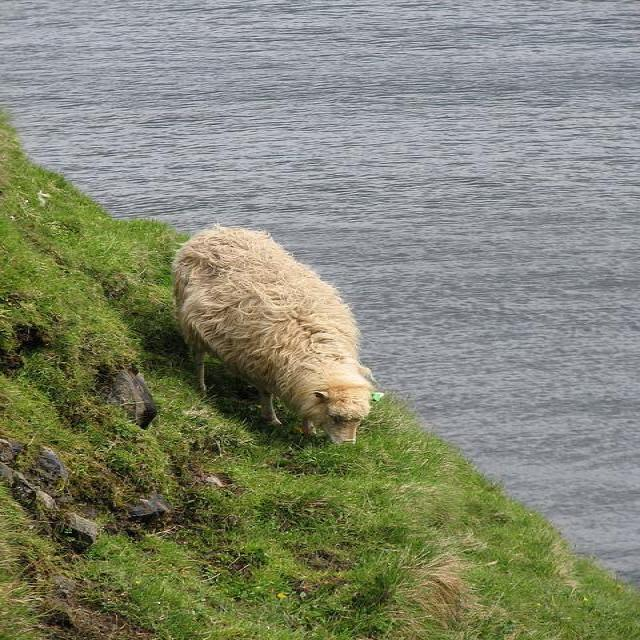Sheep: (165, 224, 378, 449)
